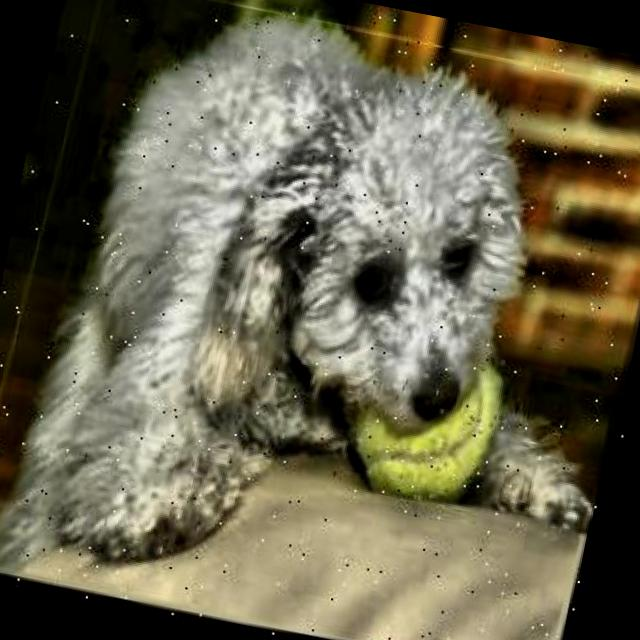tennis-ball: (344, 336, 514, 520)
